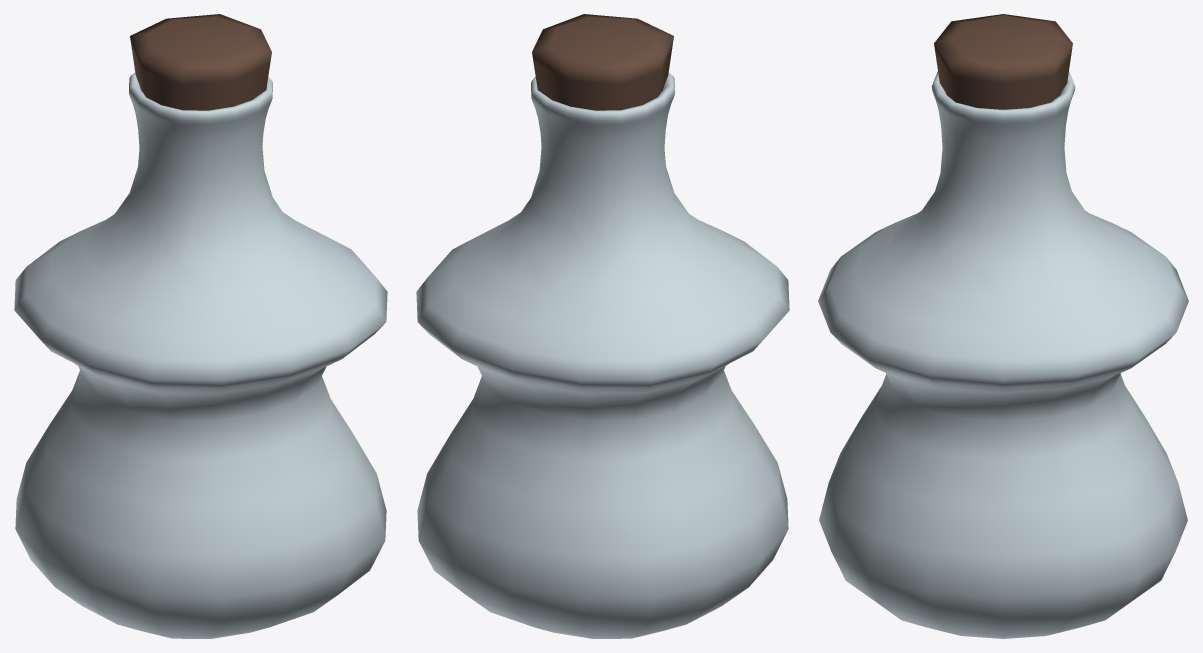
File: rpg_potion5_filled.glb
3 views of the same model, side by side, from view 1: azimuth 30°, elevation 25°; view 2: azimuth 150°, elevation 25°; view 3: azimuth 270°, elevation 25° (orthographic).
Visible parts, largest first — view 1: Potion5_Filled; view 2: Potion5_Filled; view 3: Potion5_Filled.
Boxes of the visible parts, bbox=[...] form: Potion5_Filled: bbox=[14, 14, 387, 638]; Potion5_Filled: bbox=[416, 14, 789, 638]; Potion5_Filled: bbox=[818, 14, 1188, 638].
Size of the model in its own units: 0.7081 by 1.23 by 0.7081.
